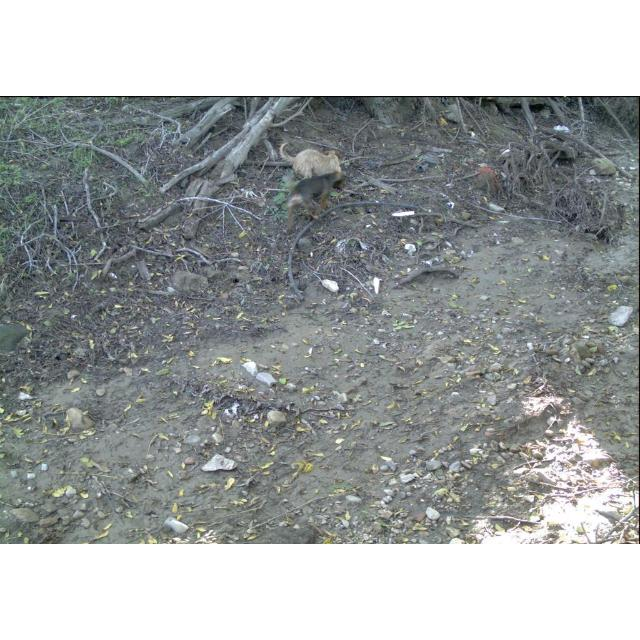animals: (284, 172, 348, 232)
